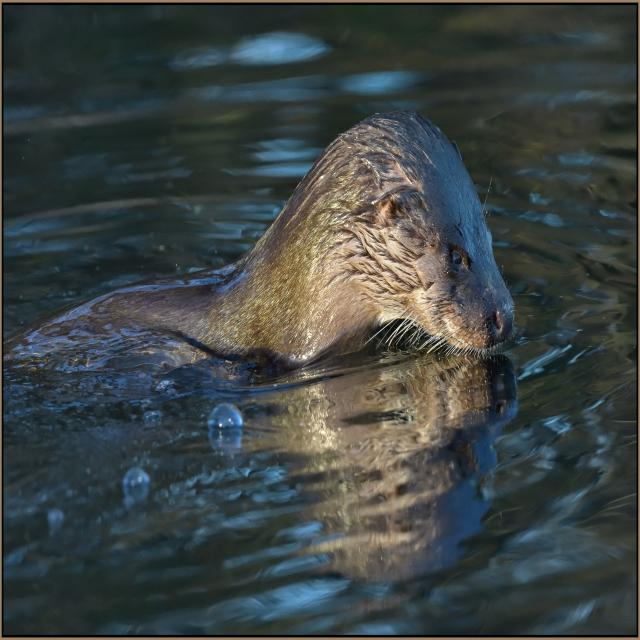otter: (207, 114, 517, 359)
